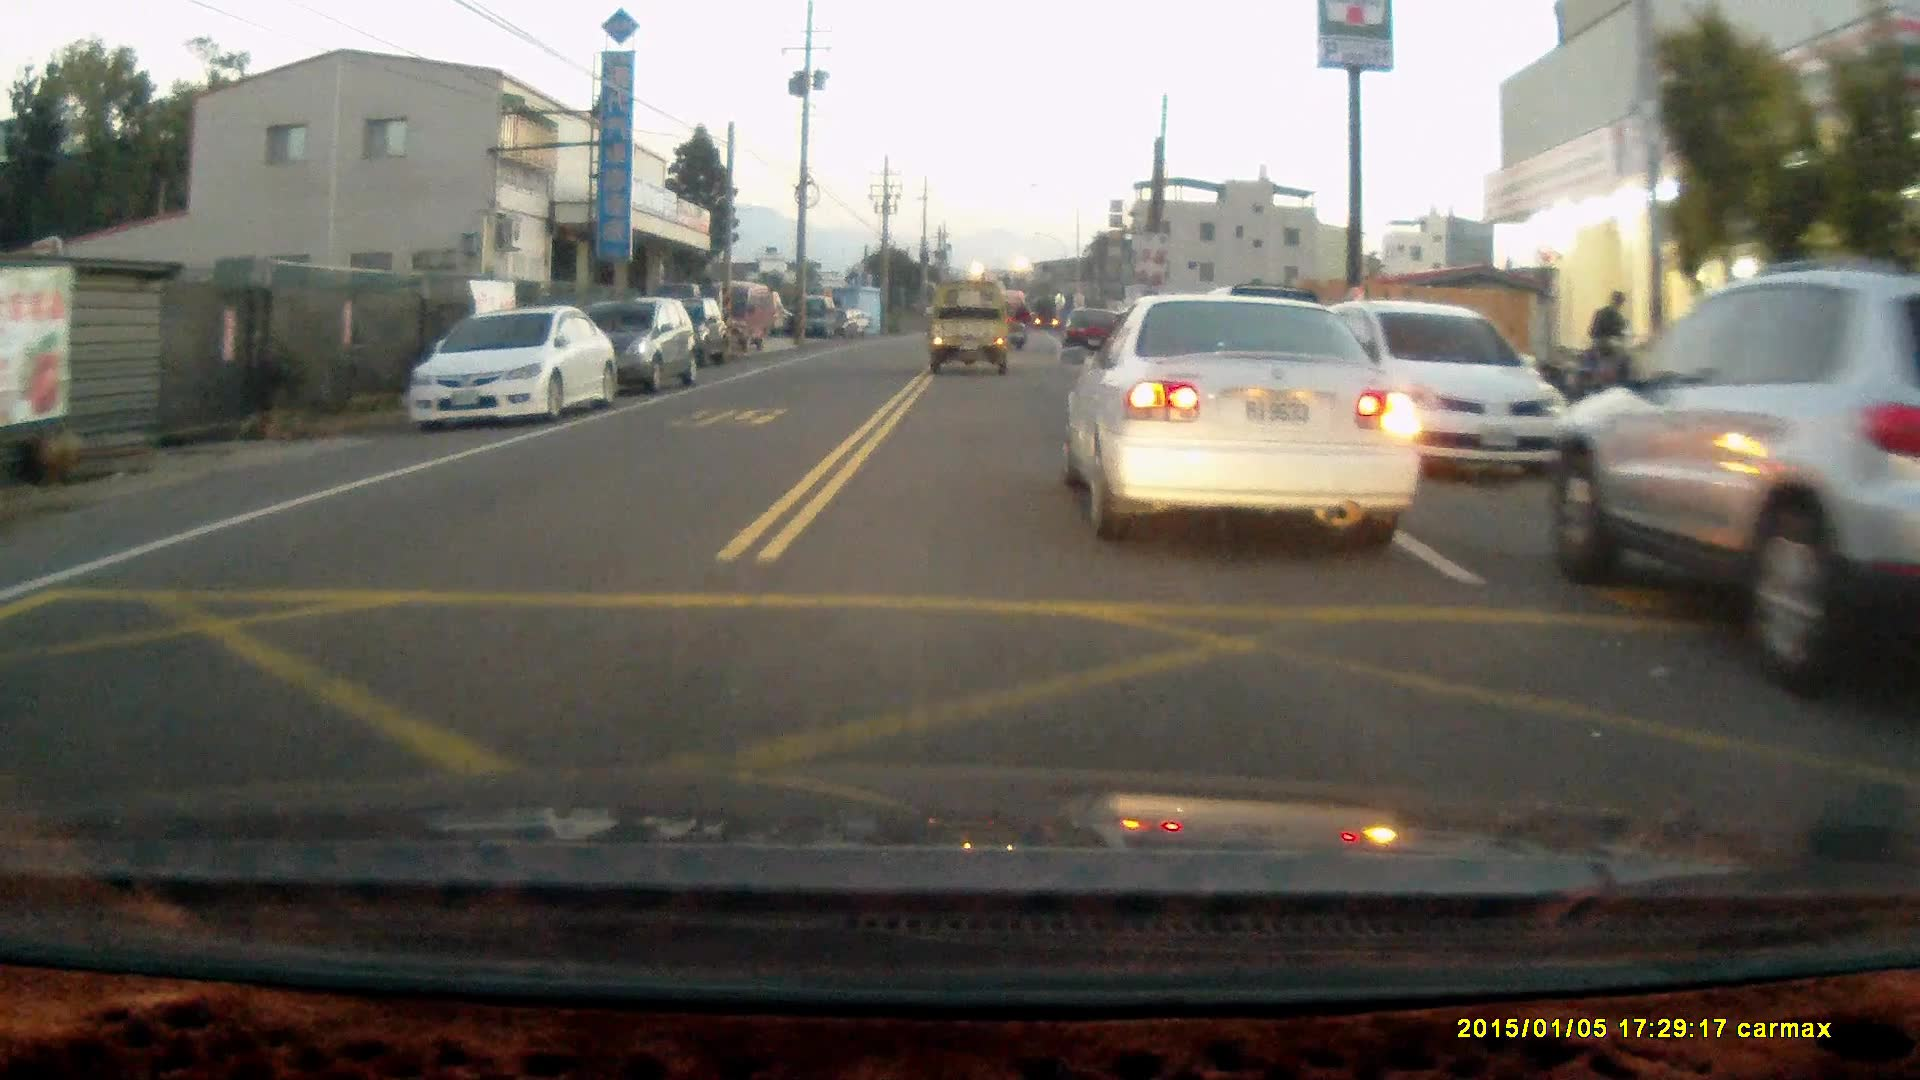pedestrian: (1584, 289, 1628, 396)
rider: (1006, 302, 1032, 350)
vehicle: (1552, 264, 1920, 703), (1071, 279, 1417, 531), (1302, 289, 1571, 477), (409, 291, 621, 423), (565, 289, 703, 392), (628, 275, 735, 363), (930, 272, 1017, 369), (716, 279, 778, 351), (1059, 305, 1123, 356)
